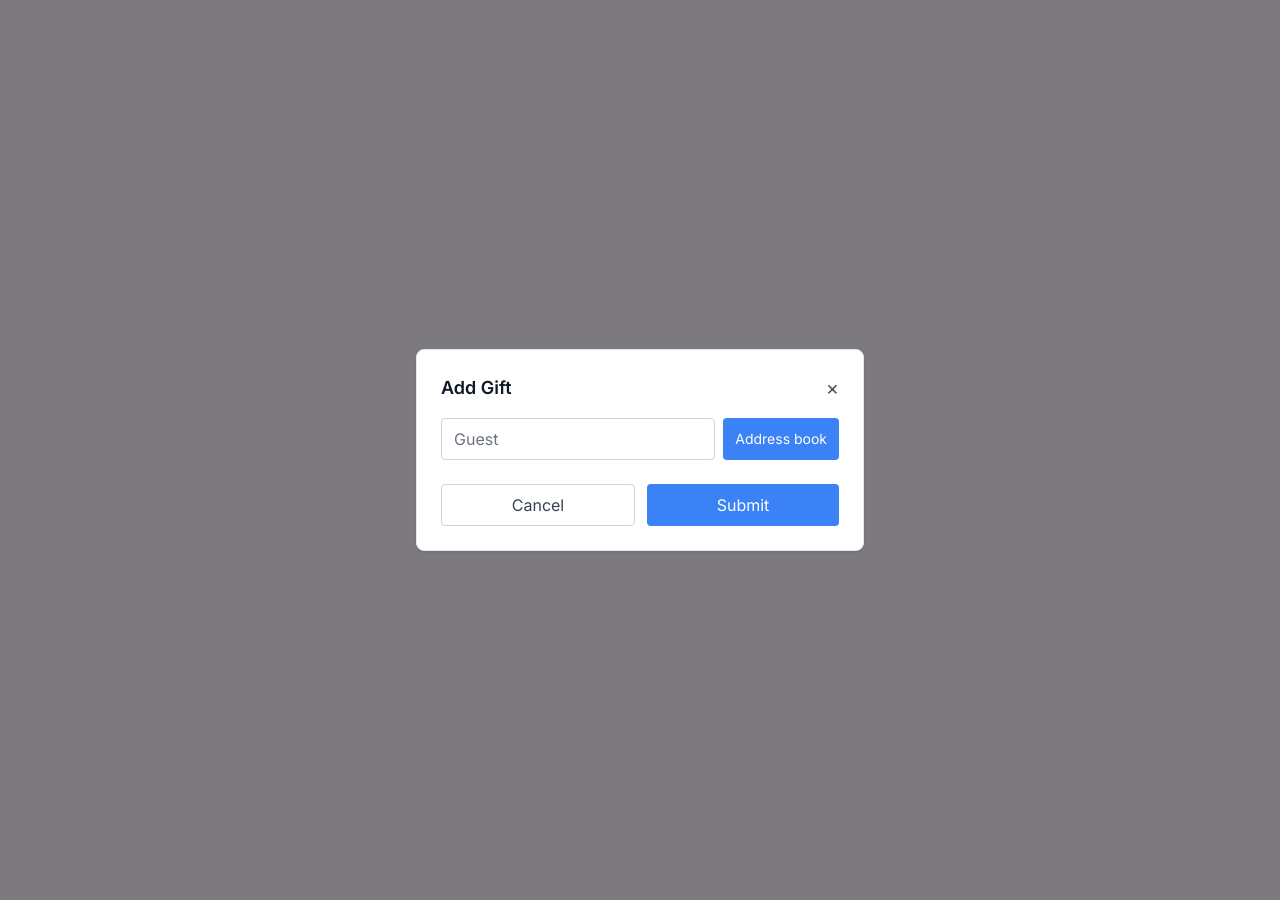
Test: FormModal › address book › picking a contact on a guest form (name, no recipient) fills the name
The width and height of the screenshot is (1280, 900).
Click the button "Address book": {"x": 781, "y": 439} x1=723 y1=418 x2=839 y2=460
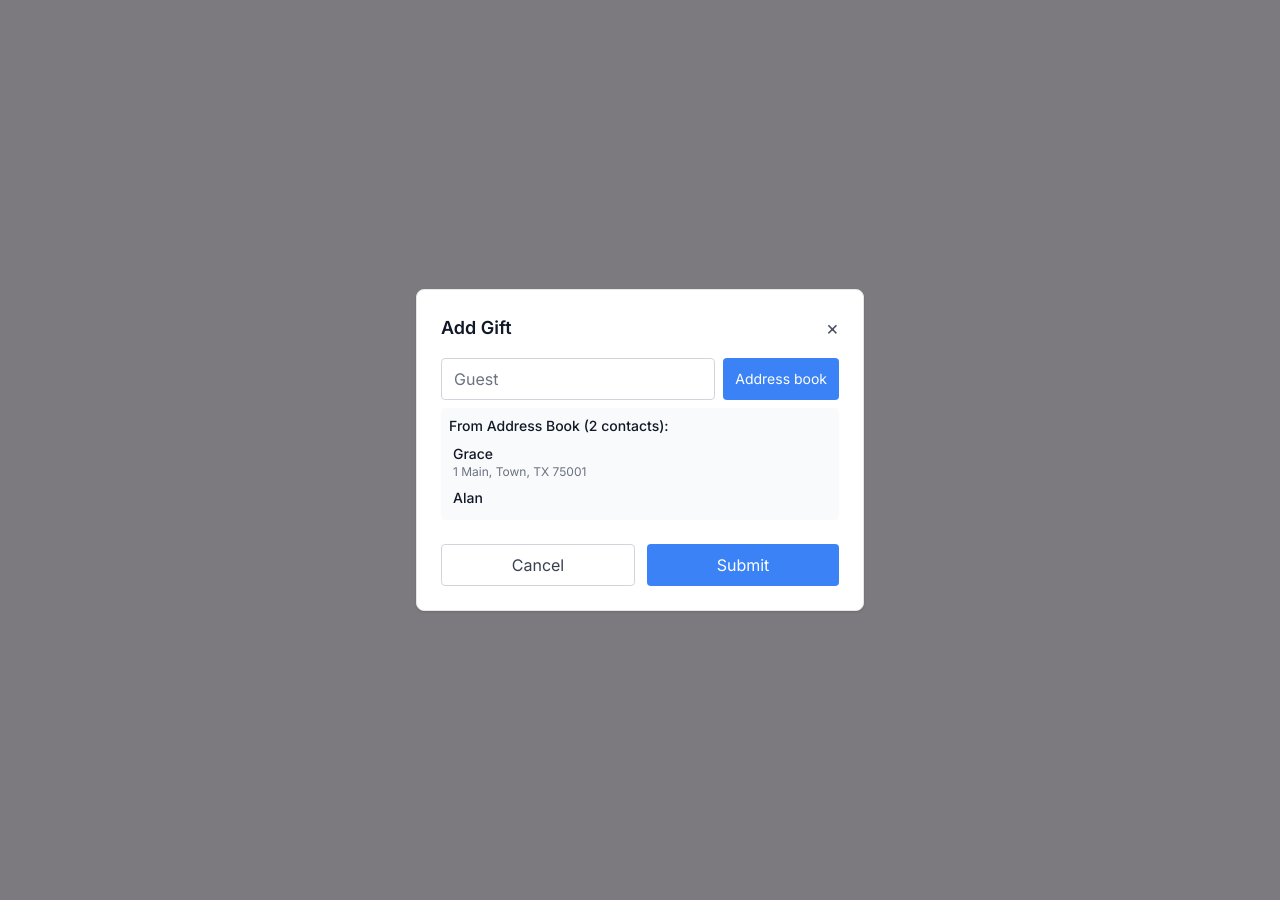
Click the button "Alan": {"x": 468, "y": 498} x1=449 y1=484 x2=831 y2=512
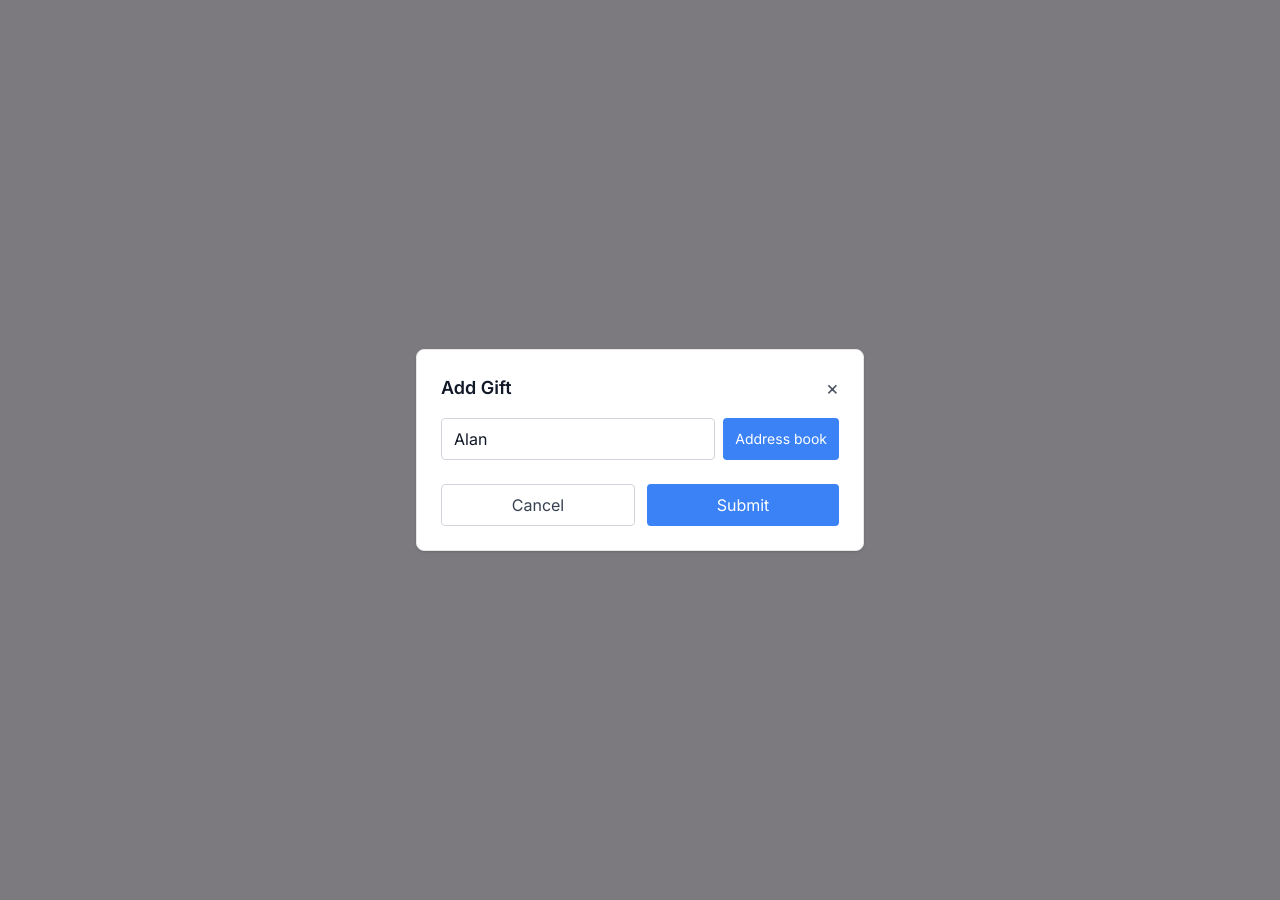
Check: the field with placeholder "Guest" holds "Alan", box x1=441 y1=418 x2=715 y2=460
